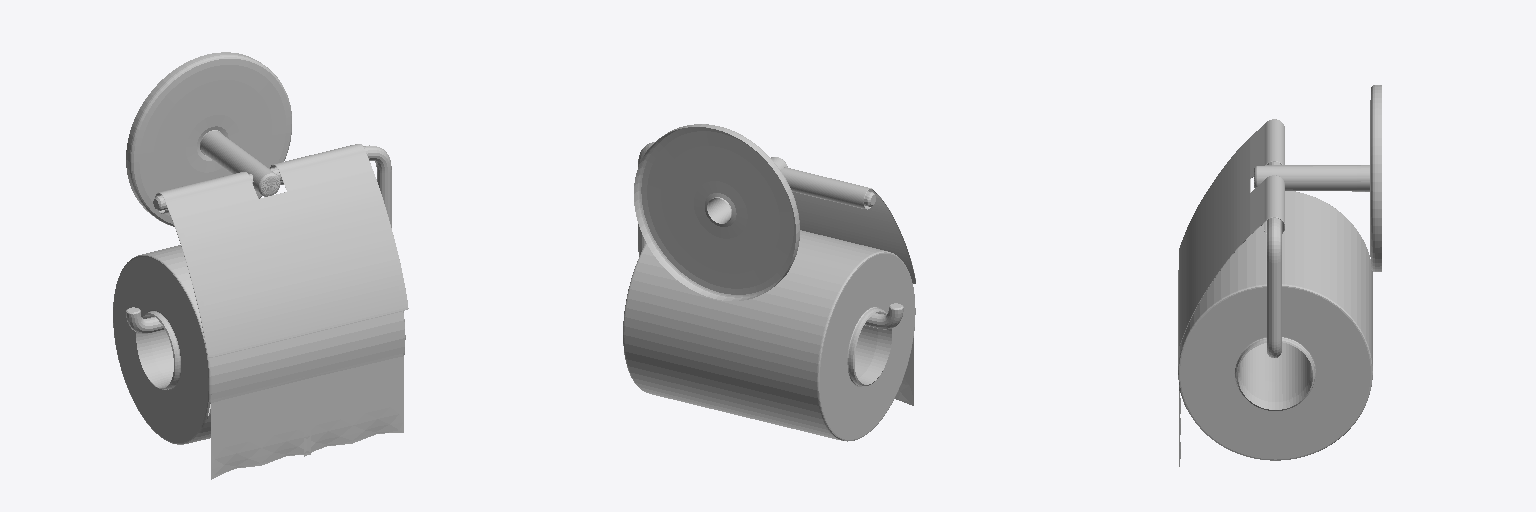
File: bathroom_paper.obj
3 views of the same model, side by side, from view 1: azimuth 30°, elevation 25°; view 2: azimuth 150°, elevation 25°; view 3: azimuth 270°, elevation 25° (orthographic).
Parts seen in each view (by area): view 1: cover_Circle.006, paper_Cylinder.003, bracket_base_Cylinder.002, spool_Cylinder.004, bracket_Mesh; view 2: paper_Cylinder.003, bracket_base_Cylinder.002, cover_Circle.006, spool_Cylinder.004, bracket_Mesh; view 3: paper_Cylinder.003, cover_Circle.006, bracket_base_Cylinder.002, spool_Cylinder.004, bracket_Mesh.
Part boxes in pixels (left/top/right/bottom): cover_Circle.006: left=155, top=144, right=408, bottom=357; paper_Cylinder.003: left=113, top=245, right=405, bottom=479; bracket_base_Cylinder.002: left=126, top=52, right=291, bottom=226; spool_Cylinder.004: left=136, top=310, right=180, bottom=389; bracket_Mesh: left=126, top=145, right=391, bottom=333; paper_Cylinder.003: left=623, top=230, right=915, bottom=441; bracket_base_Cylinder.002: left=634, top=124, right=799, bottom=300; cover_Circle.006: left=781, top=167, right=915, bottom=283; spool_Cylinder.004: left=847, top=307, right=891, bottom=386; bracket_Mesh: left=638, top=142, right=903, bottom=329; paper_Cylinder.003: left=1178, top=191, right=1372, bottom=466; cover_Circle.006: left=1179, top=119, right=1284, bottom=345; bracket_base_Cylinder.002: left=1254, top=85, right=1381, bottom=271; spool_Cylinder.004: left=1234, top=337, right=1315, bottom=410; bracket_Mesh: left=1267, top=162, right=1281, bottom=357.
Bounding box in the file's own units: 15.57 × 18.45 × 10.41.